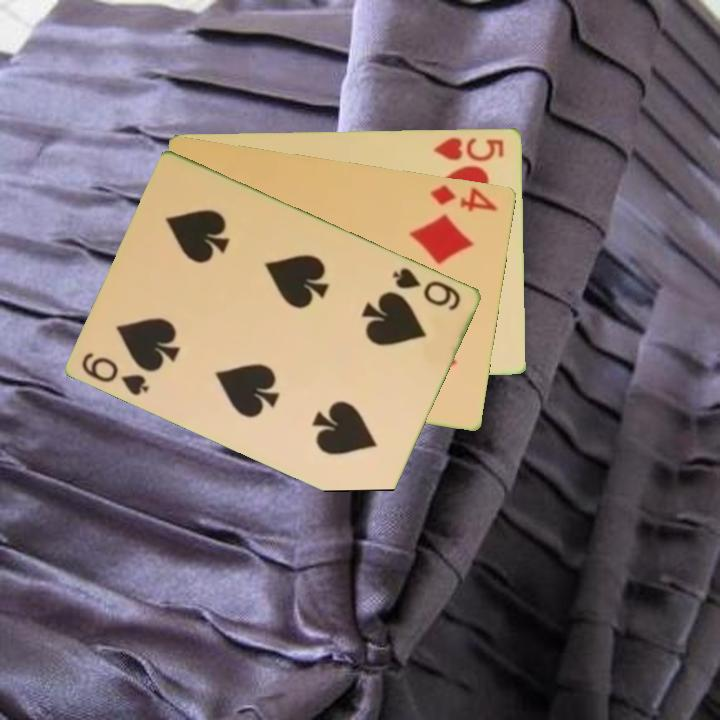4d: (427, 181, 501, 214)
5h: (430, 133, 507, 164)
6s: (78, 348, 152, 399), (389, 264, 464, 314)
